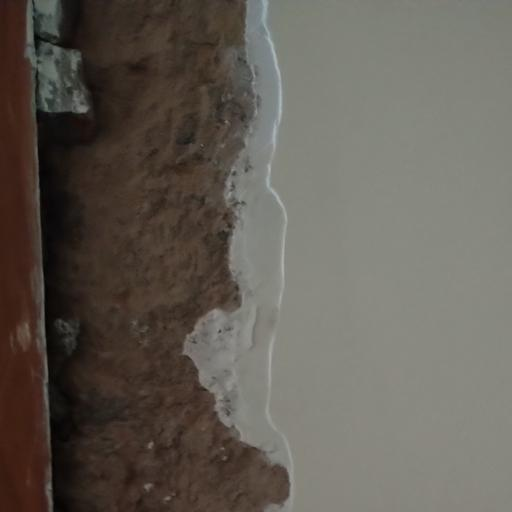spalling: (30, 1, 311, 512)
